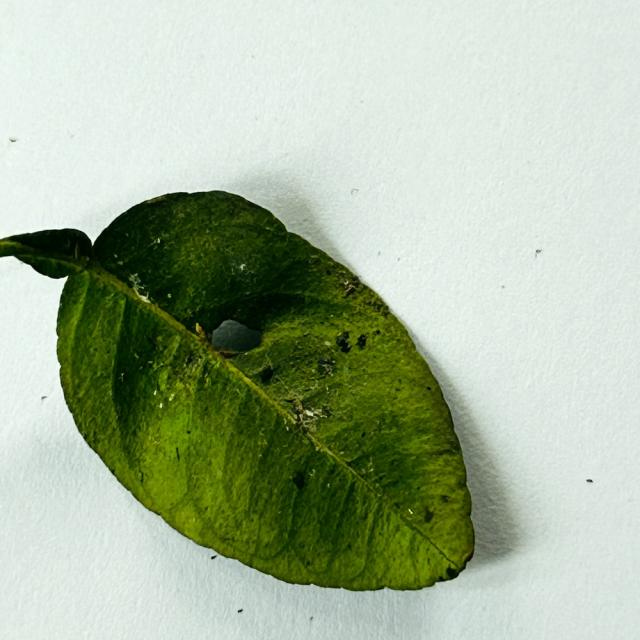Bacterial_Blight: (127, 327, 194, 412), (328, 328, 375, 356), (354, 284, 390, 313), (318, 357, 335, 375), (291, 470, 306, 490), (260, 366, 275, 384), (423, 506, 434, 524), (356, 333, 368, 349), (339, 342, 352, 354), (146, 335, 157, 349), (337, 331, 350, 342), (120, 371, 128, 383), (361, 431, 366, 437)
Lemon: (0, 191, 477, 595)
